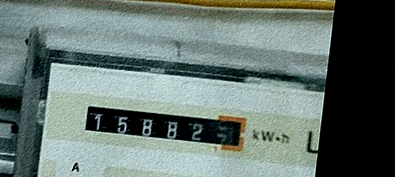1: (90, 111, 101, 130)
2: (188, 121, 203, 142)
5: (112, 114, 128, 134)
7: (212, 131, 226, 144)
8: (162, 118, 178, 140), (139, 116, 153, 137)
screen: (77, 97, 250, 156)
